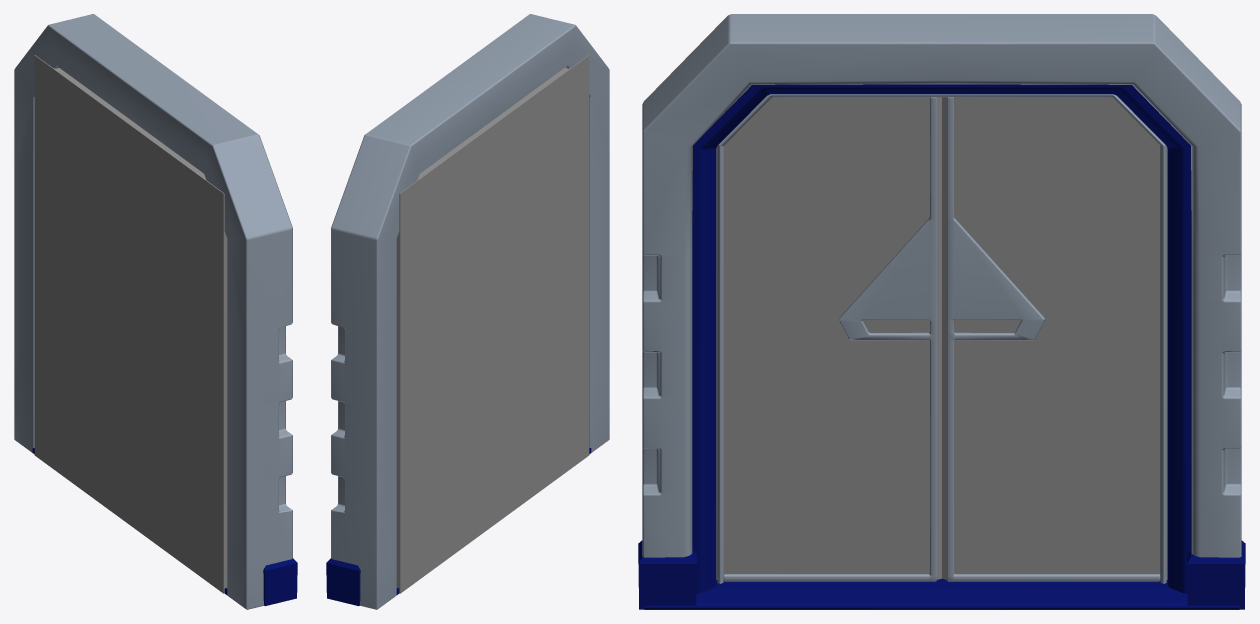
Rendered from Door.FBX.
The picture shows the model from 3 angles, left to right: view 1: azimuth 30°, elevation 25°; view 2: azimuth 150°, elevation 25°; view 3: azimuth 270°, elevation 25°; orthographic projection. The views are drawn at different scales.
Parts seen in each view (by area): view 1: Line004, Box021, Box023, Object001; view 2: Line004, Box023, Box021, Object001; view 3: Box021, Box023, Line004, Line002, Plane001, Box024, Line003, Object001.
Part boxes in pixels (x1,y1,x2,y2): Line004: (14, 14, 292, 609); Box021: (129, 123, 227, 593); Box023: (34, 55, 134, 524); Object001: (263, 558, 297, 606); Line004: (331, 14, 609, 609); Box023: (396, 123, 494, 593); Box021: (489, 55, 589, 524); Object001: (326, 558, 360, 606); Box021: (716, 97, 941, 579); Box023: (942, 97, 1167, 579); Line004: (642, 14, 1241, 557); Line002: (692, 84, 1191, 593); Plane001: (723, 97, 1160, 581); Box024: (644, 578, 1239, 609); Line003: (717, 94, 1166, 583); Object001: (638, 540, 1245, 609).
Bounding box in the file's own units: 11.01 × 91.05 × 88.32.
